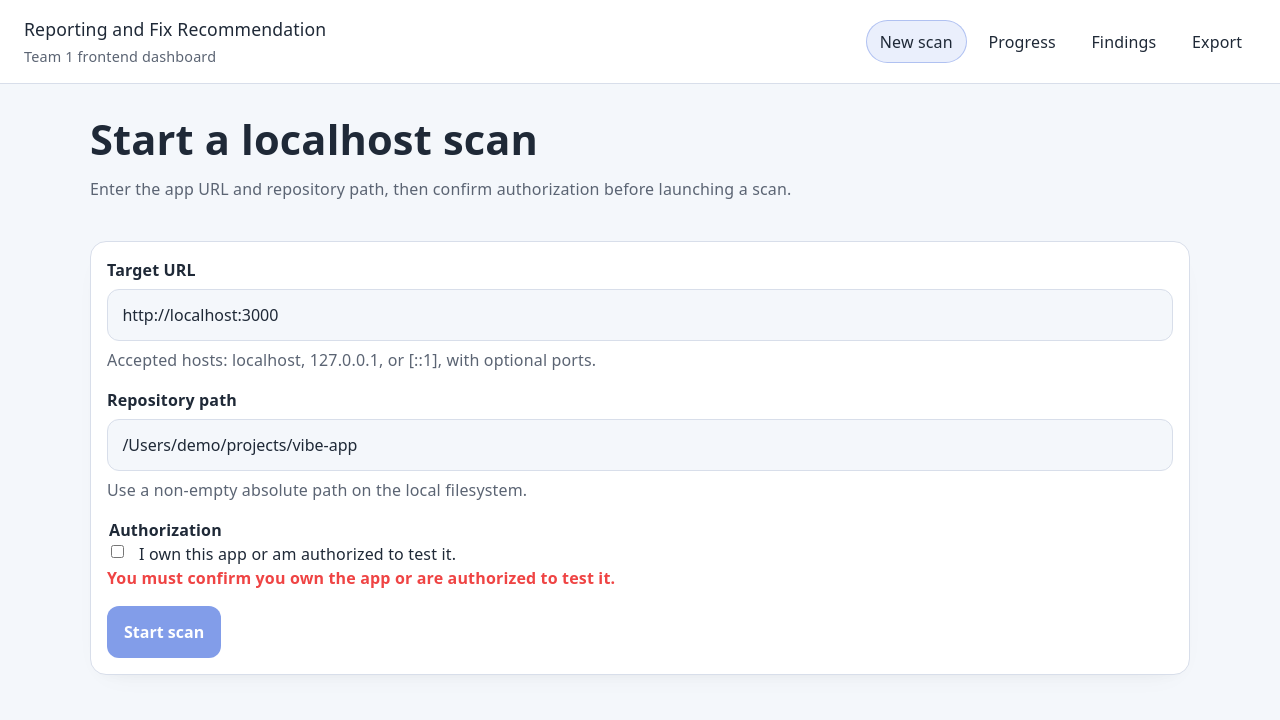
Scenario: NewScanPage › rejects non-localhost URLs
Replace the text in the field labelled "Target URL" with "https://example.com": point(640, 315) [107, 289, 1173, 341]
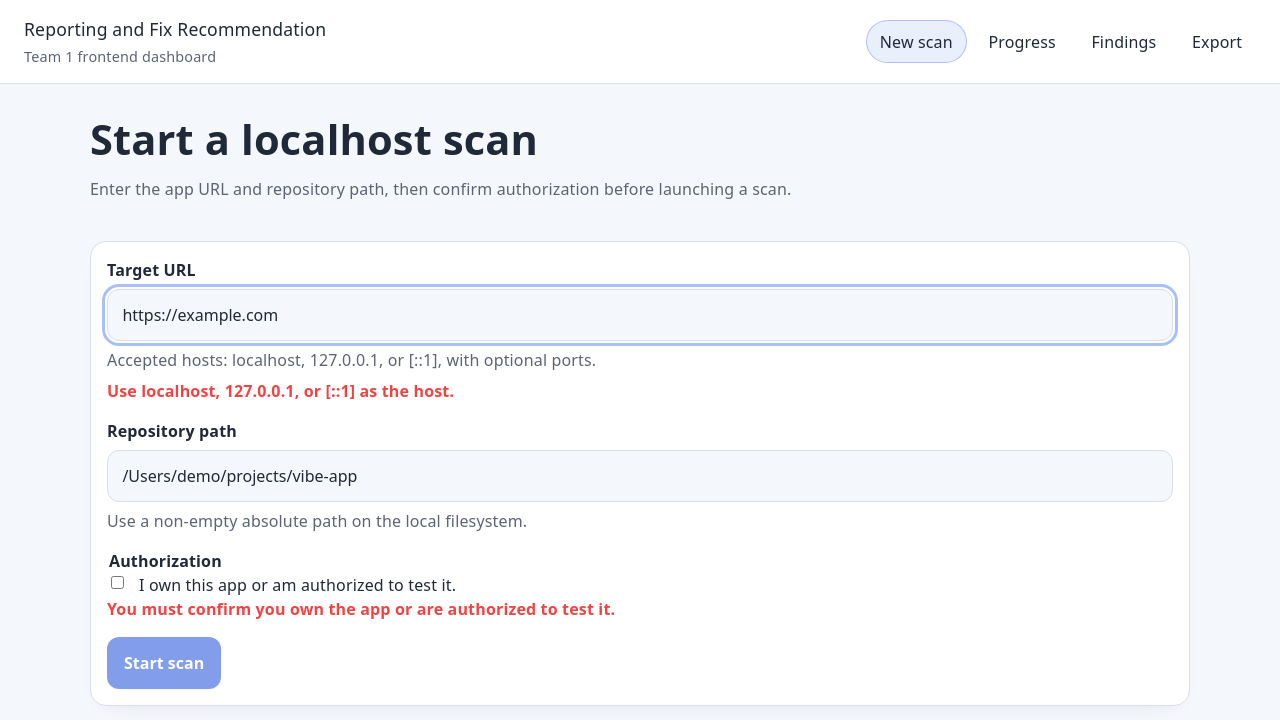
Expected: the text "Use localhost, 127.0.0.1, or [::1] as the host." is shown, [107, 380, 454, 402]
